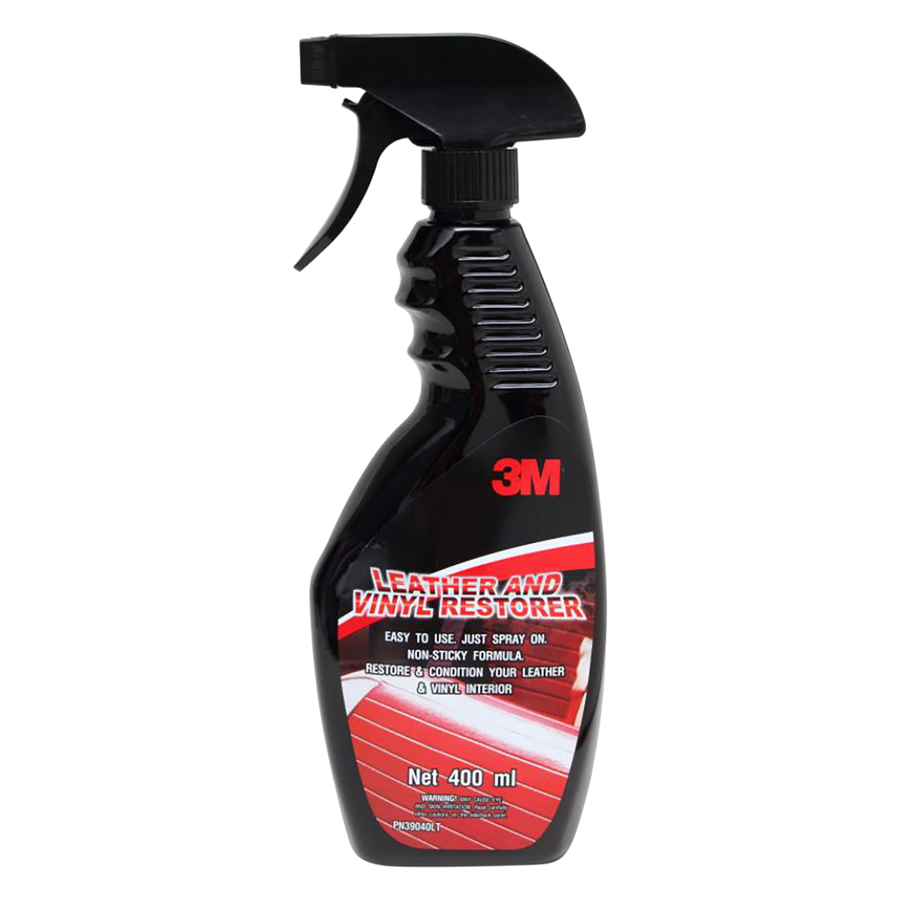3M: (480, 447, 572, 502)
